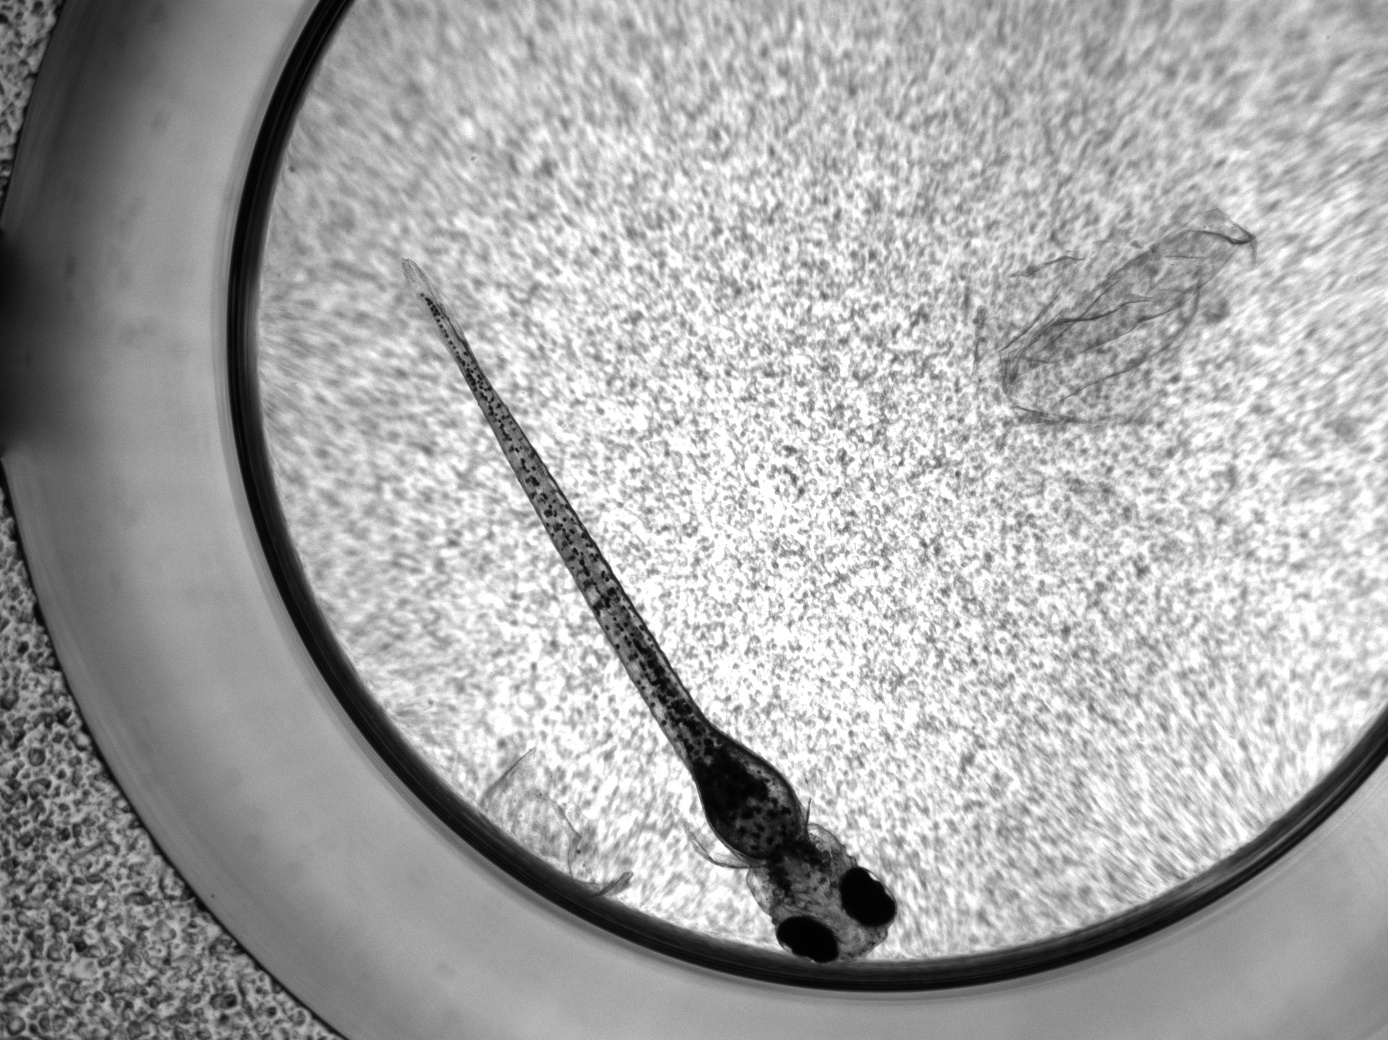embryo: (417, 283, 898, 964)
eye: (839, 868, 897, 931), (776, 915, 841, 964)
yolksac: (697, 748, 806, 861)
